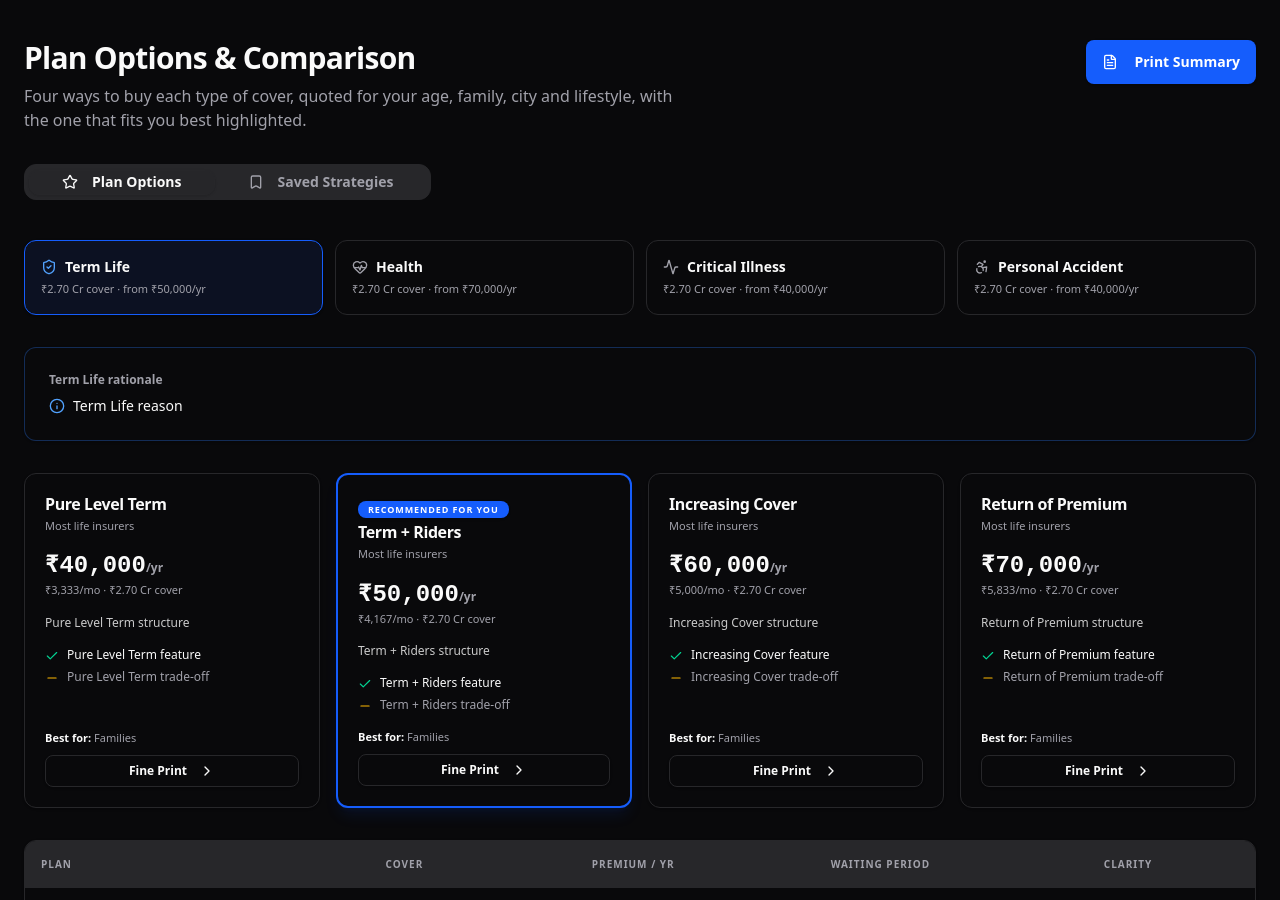
Test: ComparisonView plan options › shows four options per insurance type with the recommendation highlighted
The image size is (1280, 900).
Check: the text "Term Life reason" is shown, box top-left (73, 396), bottom-right (183, 416)
Check: the heading "Term + Riders" is shown, box top-left (358, 521), bottom-right (461, 543)
Click the tab "Health ₹2.70 Cr cover · from ₹70,000/yr" at point(399, 266), box top-left (335, 240), bottom-right (634, 314)
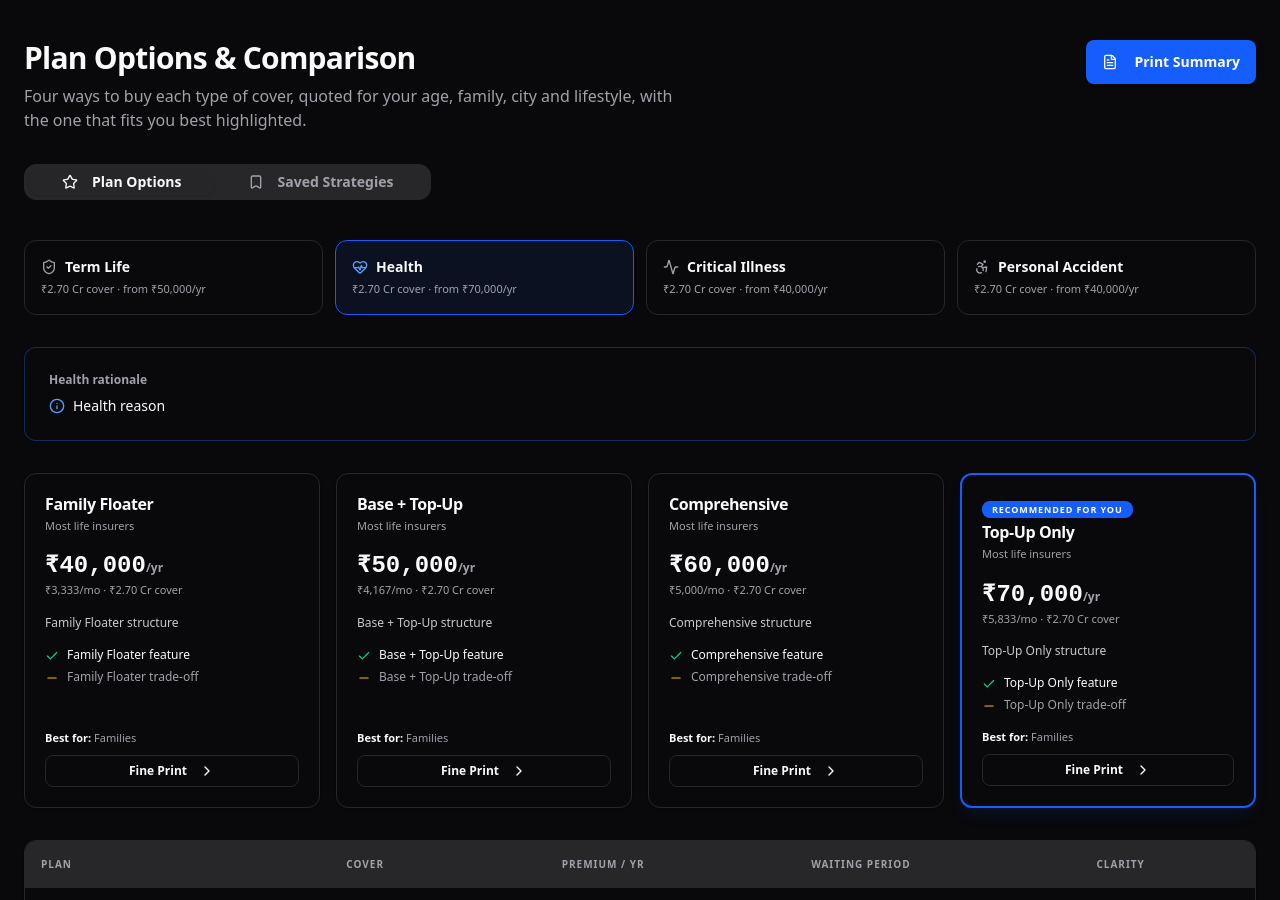
Check: the text "Health reason" is shown, box top-left (73, 396), bottom-right (165, 416)
Check: the heading "Top-Up Only" is shown, box top-left (982, 521), bottom-right (1074, 543)
Click the tab "Critical Illness ₹2.70 Cr cover · from ₹40,000/yr" at point(736, 266), box top-left (646, 240), bottom-right (945, 314)
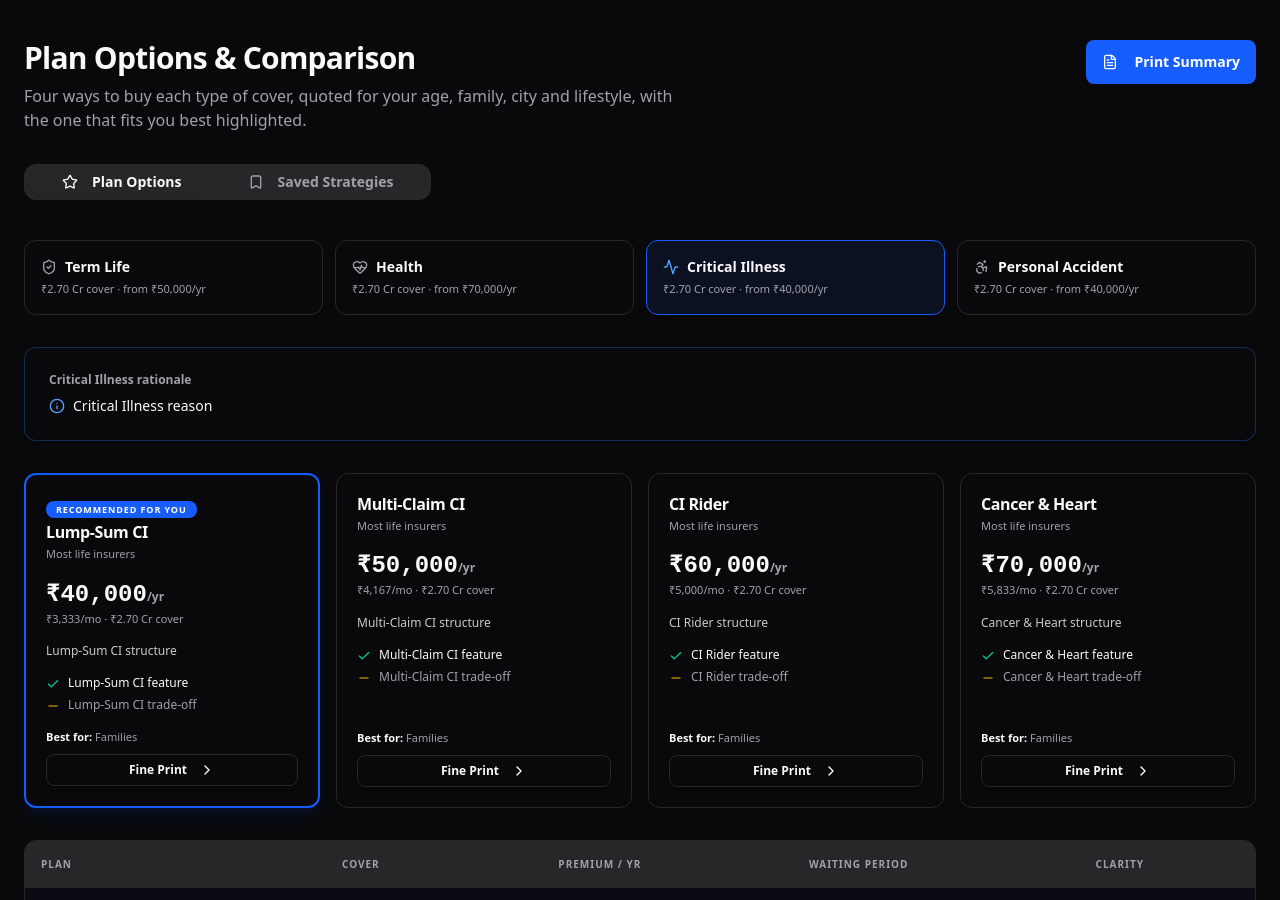
Click the tab "Personal Accident ₹2.70 Cr cover · from ₹40,000/yr" at point(1106, 277), box top-left (957, 240), bottom-right (1256, 314)
(page scrolled)
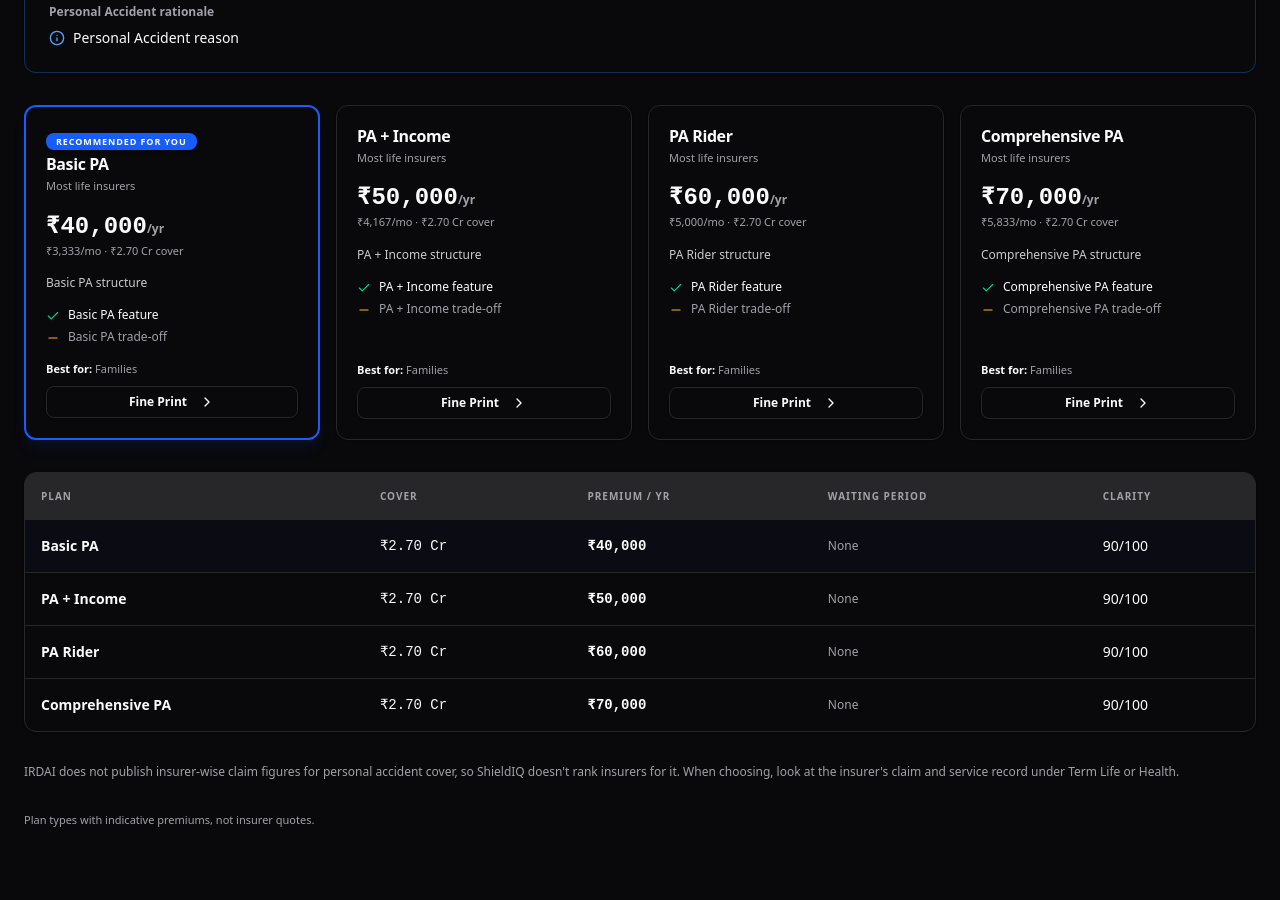
Check: the text "doesn't rank insurers for it" is shown, box top-left (24, 763), bottom-right (1179, 780)
